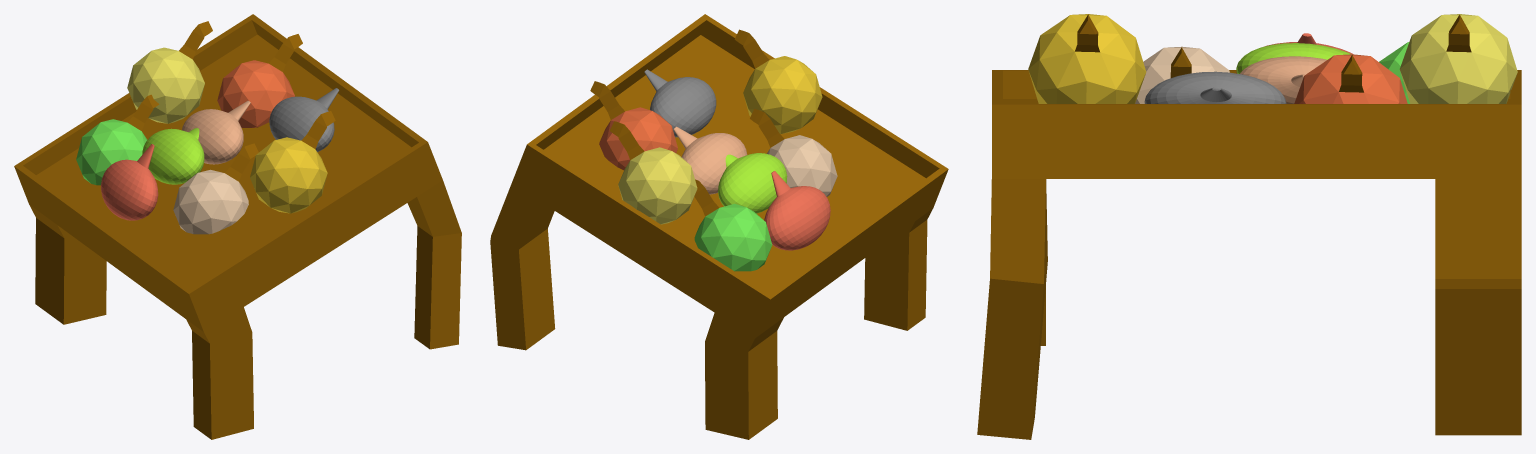
File: fruits.fbx
The picture shows the model from 3 angles, left to right: view 1: azimuth 30°, elevation 25°; view 2: azimuth 150°, elevation 25°; view 3: azimuth 270°, elevation 25°; orthographic projection. The views are drawn at different scales.
Parts seen in each view (by area): view 1: Cube, Icosphere.001, Icosphere.002, Icosphere.004, Icosphere.003, Icosphere.005, Sphere.003, Sphere.002, Sphere, Sphere.001; view 2: Cube, Icosphere.002, Icosphere.001, Icosphere.005, Sphere.003, Icosphere.004, Icosphere.003, Sphere.002, Sphere.001, Sphere; view 3: Cube, Icosphere.001, Icosphere.002, Icosphere.003, Sphere.001, Icosphere.004, Sphere, Sphere.002, Icosphere.005.
Part boxes in pixels (x1=…): Cube: x1=14, y1=14, x2=461, y2=439; Icosphere.001: x1=250, y1=111, x2=335, y2=213; Icosphere.002: x1=127, y1=21, x2=212, y2=123; Icosphere.004: x1=173, y1=143, x2=258, y2=234; Icosphere.003: x1=217, y1=34, x2=302, y2=127; Icosphere.005: x1=76, y1=94, x2=159, y2=185; Sphere.003: x1=101, y1=144, x2=158, y2=220; Sphere.002: x1=142, y1=128, x2=204, y2=184; Sphere: x1=182, y1=100, x2=250, y2=164; Sphere.001: x1=269, y1=88, x2=339, y2=151; Cube: x1=490, y1=14, x2=948, y2=439; Icosphere.002: x1=610, y1=121, x2=697, y2=224; Icosphere.001: x1=734, y1=29, x2=822, y2=133; Icosphere.005: x1=694, y1=179, x2=772, y2=271; Sphere.003: x1=764, y1=171, x2=830, y2=250; Icosphere.004: x1=750, y1=109, x2=837, y2=196; Icosphere.003: x1=590, y1=81, x2=677, y2=170; Sphere.002: x1=718, y1=153, x2=787, y2=213; Sphere.001: x1=644, y1=69, x2=716, y2=137; Sphere: x1=673, y1=126, x2=747, y2=194; Cube: x1=977, y1=70, x2=1521, y2=439; Icosphere.001: x1=1028, y1=14, x2=1146, y2=103; Icosphere.002: x1=1399, y1=14, x2=1517, y2=103; Icosphere.003: x1=1294, y1=54, x2=1407, y2=103; Sphere.001: x1=1144, y1=71, x2=1286, y2=103; Icosphere.004: x1=1135, y1=46, x2=1229, y2=103; Sphere: x1=1240, y1=56, x2=1326, y2=103; Sphere.002: x1=1236, y1=43, x2=1350, y2=73; Icosphere.005: x1=1379, y1=42, x2=1409, y2=103.
Size of the model in its own units: 336 by 314 by 380.
